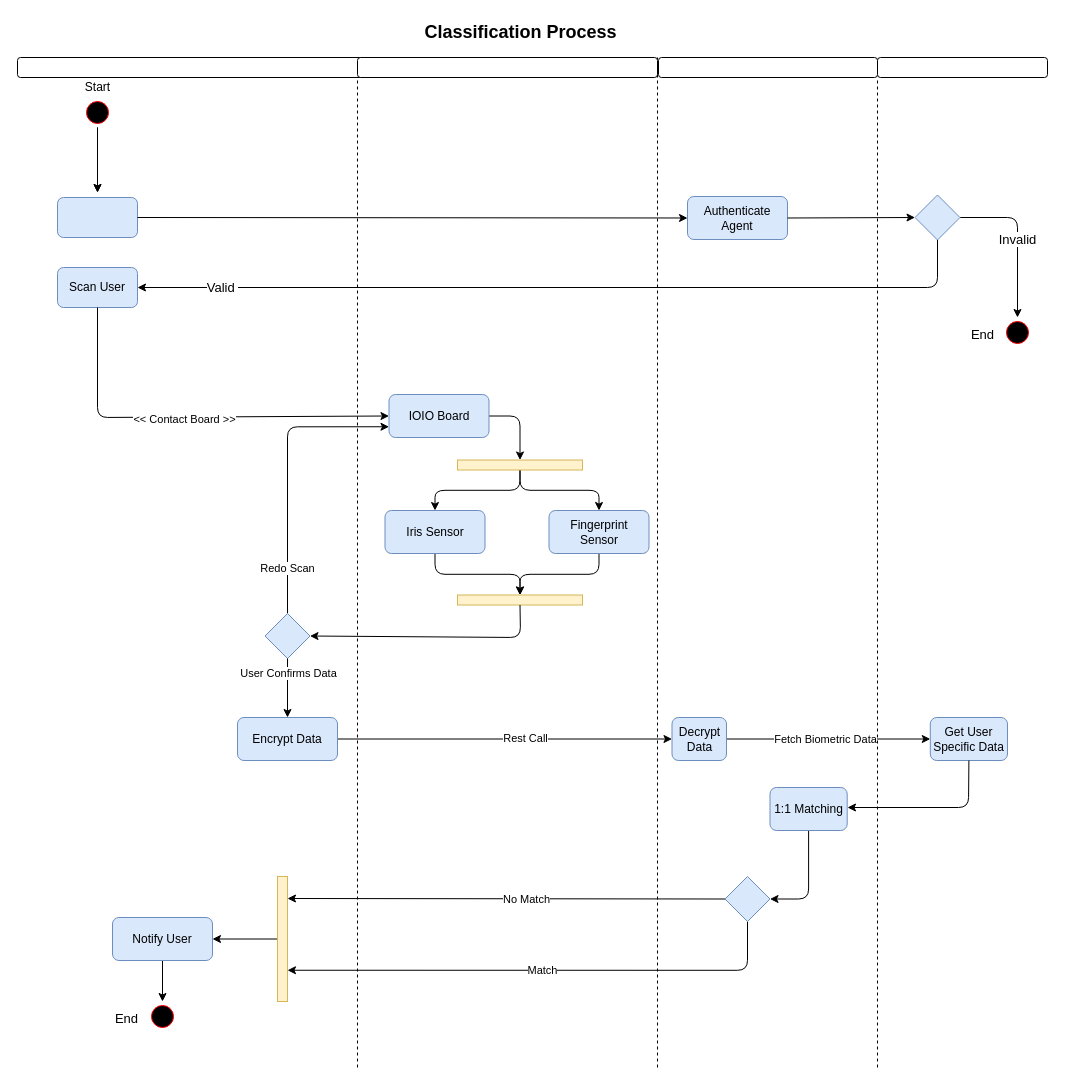
The diagram is 1065 pixels wide and 1086 high, and some of its shapes have lost their labels. The centre of each missing label's shape, as x and y in pixels:
Backend: the point at 768,67
Database: the point at 962,67
Hardware: the point at 507,67
Login to System: the point at 97,217
User: the point at 197,67
